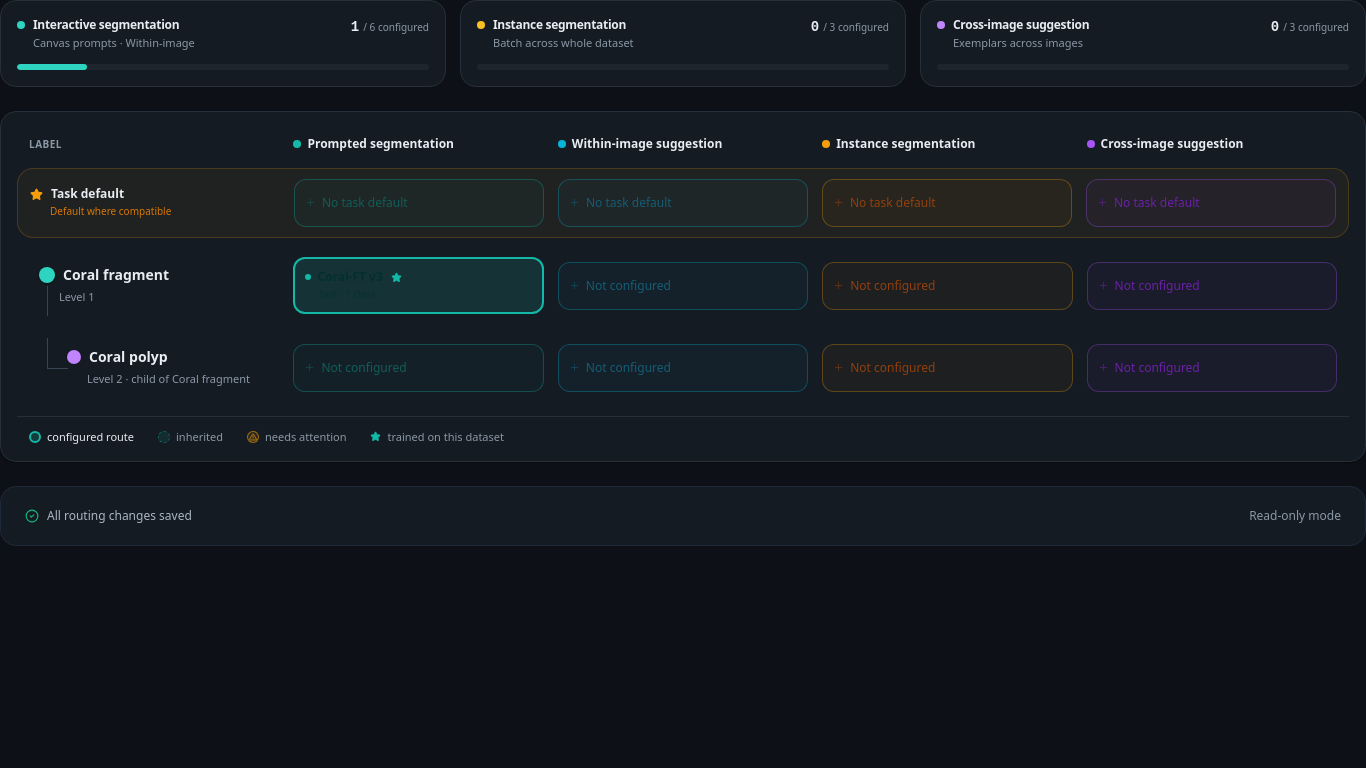
it: ModelOrchestrationPanel (Design B) › opens the existing route for read-only inspection without enabling drawer edits
Click the button with test id "matrix-cell-prompted-segmentation-1" at (419, 286), box [293,257,544,314]
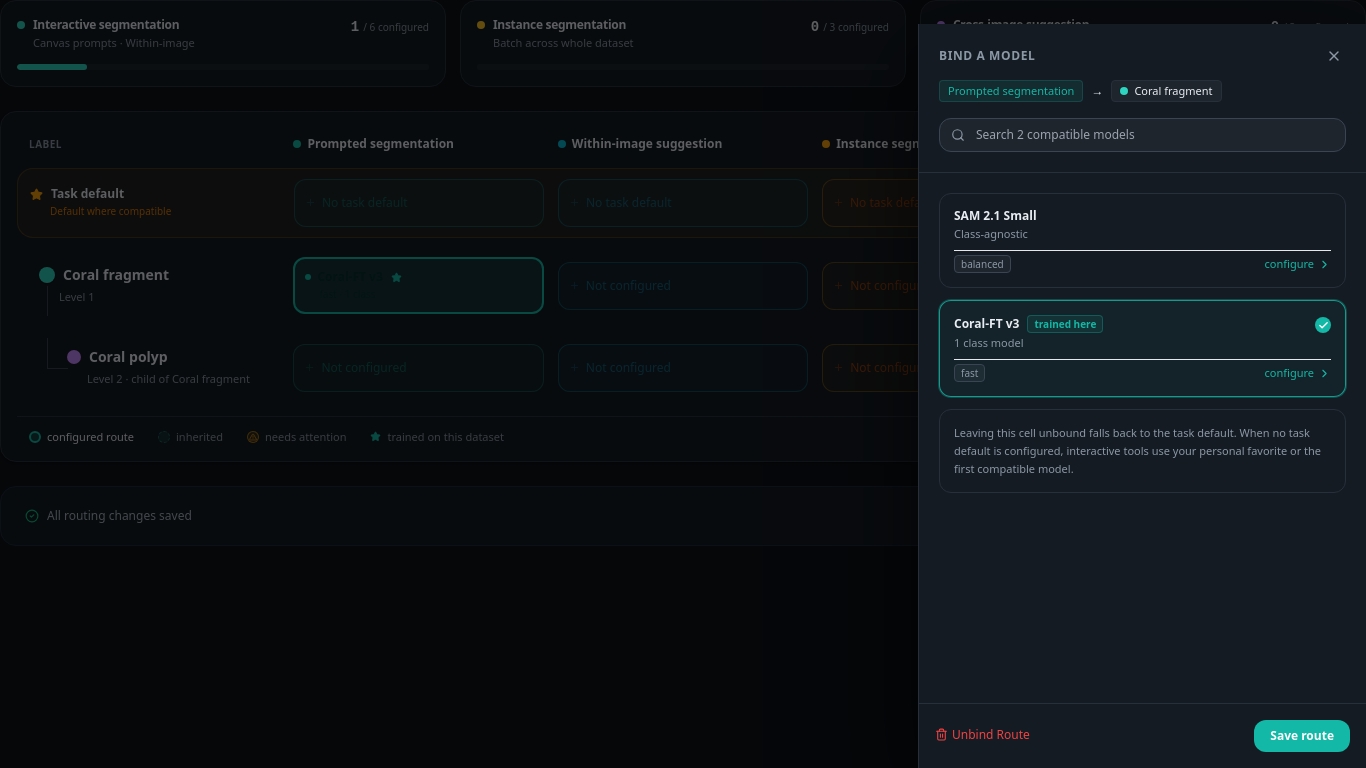
Expected: the element with test id "matrix-side-drawer" is shown, [918,24,1365,767]
Expected: the text "Coral-FT v3" is shown, [954,316,1019,332]
Expected: the button "Save route" is disabled, [1254,720,1350,752]
# The existing route may be opened for inspection, but cannot be applied.
Click the button "configure" below "1 class model" at (1298, 373), box [1264,365,1331,381]
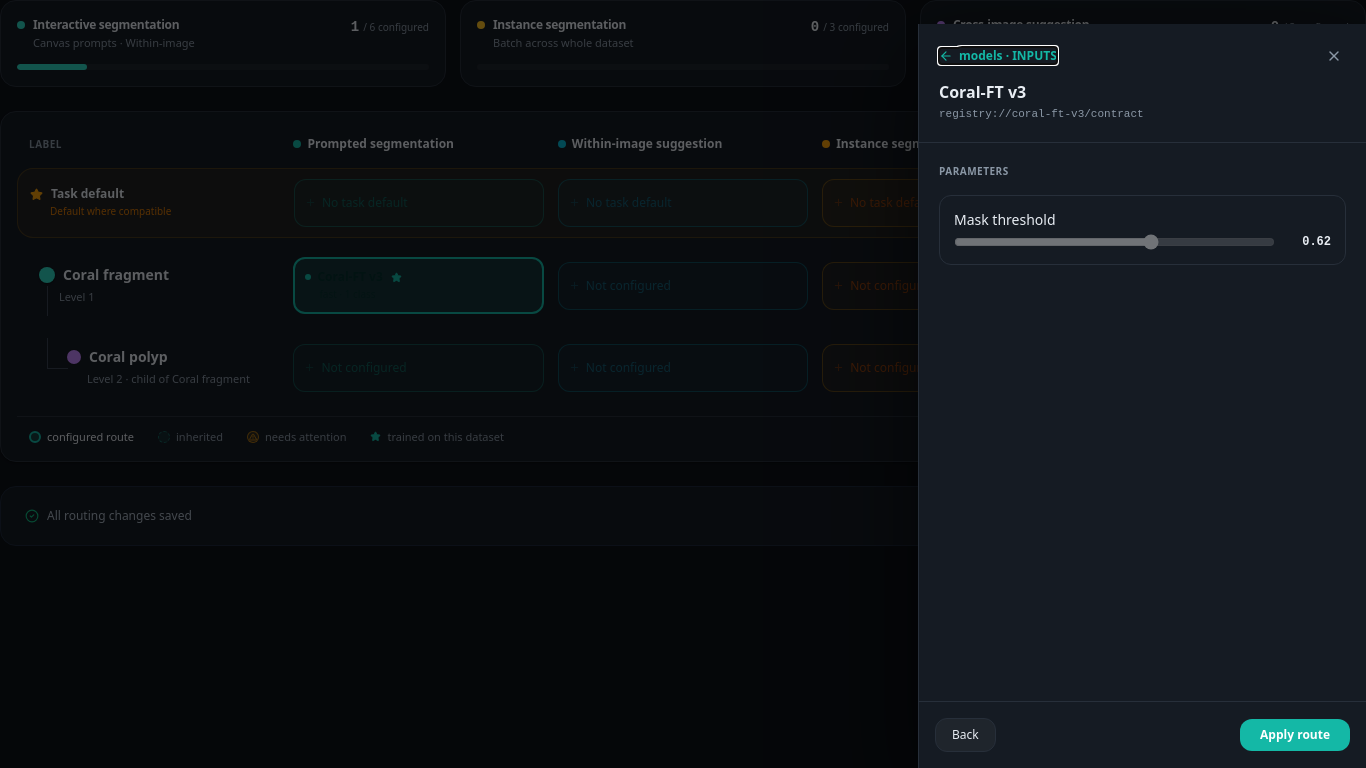
Expected: the button "Apply route" is disabled, [1240,719,1350,751]
